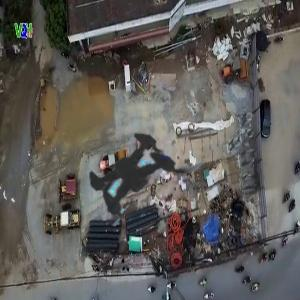drone: (24, 73, 231, 280)
